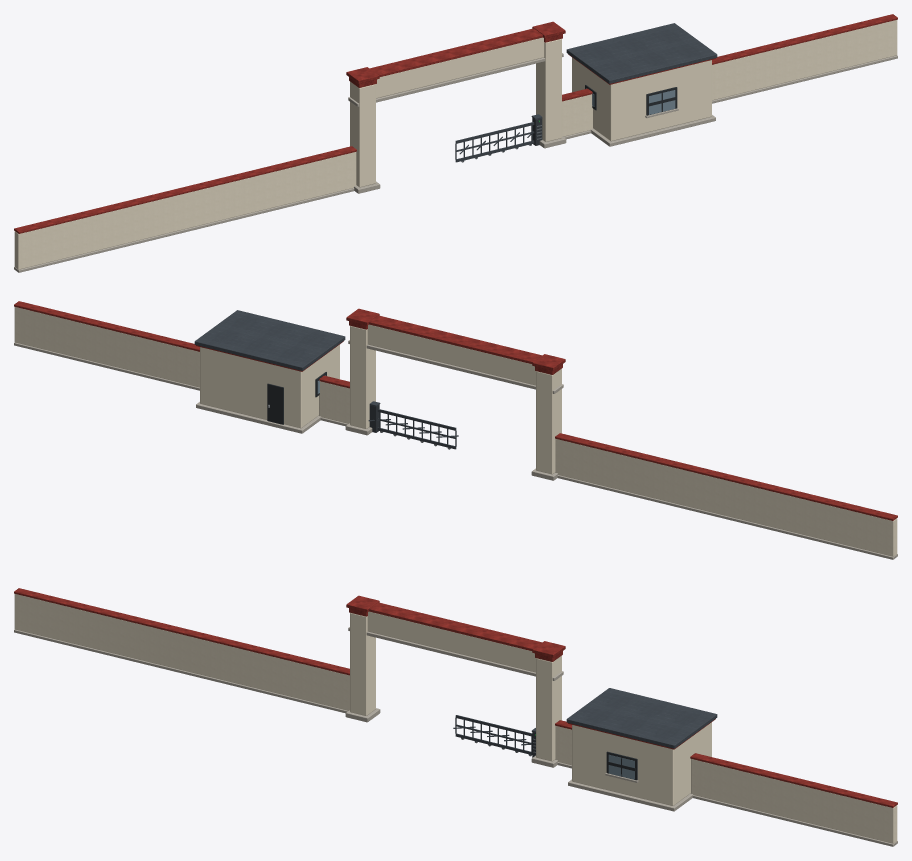
File: ov-gate.glb
3 renders of one model, top to bottom at view 1: azimuth 30°, elevation 25°; view 2: azimuth 150°, elevation 25°; view 3: azimuth 330°, elevation 25°, orthographic.
Parts seen in each view (by area): view 1: wall_W, wall_E2, guard_room_body, guard_room_roof, gate_beam, wall_W_cap, gate_post_W, gate_post_E, gate_beam_cap, wall_E2_cap, wall_W_base, wall_E1 (+4 smaller); view 2: wall_W, wall_E2, guard_room_body, guard_room_roof, gate_beam, wall_W_cap, gate_post_W, gate_post_E, gate_beam_cap, wall_E2_cap, wall_W_base, wall_E1 (+4 smaller); view 3: wall_W, wall_E2, guard_room_body, guard_room_roof, gate_beam, wall_W_cap, gate_post_W, gate_post_E, gate_beam_cap, wall_E2_cap, wall_W_base, gate_beam_cornice (+4 smaller).
Boxes of the visible parts, bbox=[...] form: wall_W: bbox=[14, 152, 356, 269]; wall_E2: bbox=[712, 20, 897, 100]; guard_room_body: bbox=[572, 57, 711, 141]; guard_room_roof: bbox=[566, 23, 717, 83]; gate_beam: bbox=[351, 37, 544, 98]; wall_W_cap: bbox=[14, 146, 356, 233]; gate_post_W: bbox=[350, 81, 375, 187]; gate_post_E: bbox=[536, 38, 561, 141]; gate_beam_cap: bbox=[369, 28, 542, 76]; wall_E2_cap: bbox=[712, 14, 897, 64]; wall_W_base: bbox=[14, 188, 354, 272]; wall_E1: bbox=[562, 94, 592, 136]; wall_W: bbox=[555, 439, 897, 556]; wall_E2: bbox=[14, 307, 199, 387]; guard_room_body: bbox=[200, 344, 339, 428]; guard_room_roof: bbox=[194, 310, 345, 370]; gate_beam: bbox=[367, 324, 560, 385]; wall_W_cap: bbox=[555, 433, 897, 520]; gate_post_W: bbox=[536, 368, 561, 474]; gate_post_E: bbox=[350, 325, 375, 428]; gate_beam_cap: bbox=[369, 315, 542, 363]; wall_E2_cap: bbox=[14, 301, 199, 351]; wall_W_base: bbox=[557, 475, 897, 559]; wall_E1: bbox=[319, 381, 349, 423]; wall_W: bbox=[14, 594, 349, 710]; wall_E2: bbox=[691, 759, 897, 843]; guard_room_body: bbox=[572, 722, 711, 805]; guard_room_roof: bbox=[566, 688, 717, 748]; gate_beam: bbox=[367, 611, 560, 672]; wall_W_cap: bbox=[14, 588, 349, 675]; gate_post_W: bbox=[350, 612, 375, 715]; gate_post_E: bbox=[536, 655, 561, 761]; gate_beam_cap: bbox=[369, 602, 542, 650]; wall_E2_cap: bbox=[690, 753, 897, 807]; wall_W_base: bbox=[14, 629, 347, 713]; gate_beam_cornice: bbox=[348, 627, 563, 680].
Bounding box in the file's own units: 52 × 6.38 × 4.4.
Materials: 15 (8 with a texture image).
